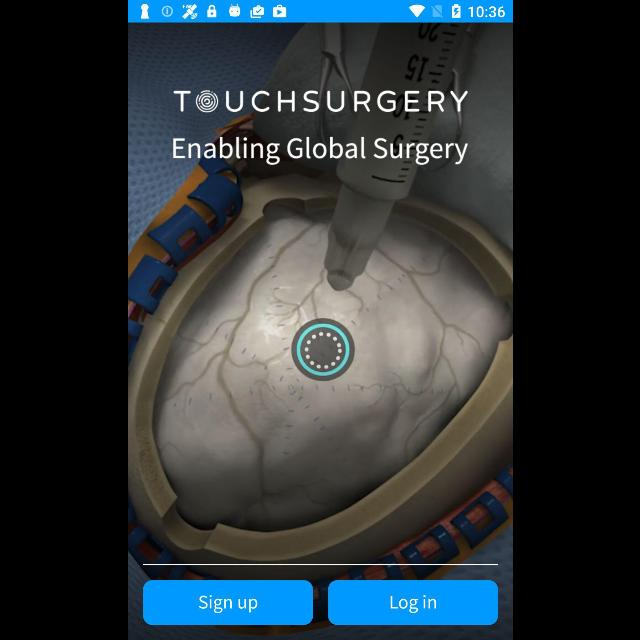backgroundimage: (128, 22, 512, 640)
image: (172, 90, 468, 112)
text: (172, 136, 468, 166)
textbutton: (327, 580, 497, 626), (142, 580, 312, 626)
uppertaskbar: (128, 1, 512, 23)
